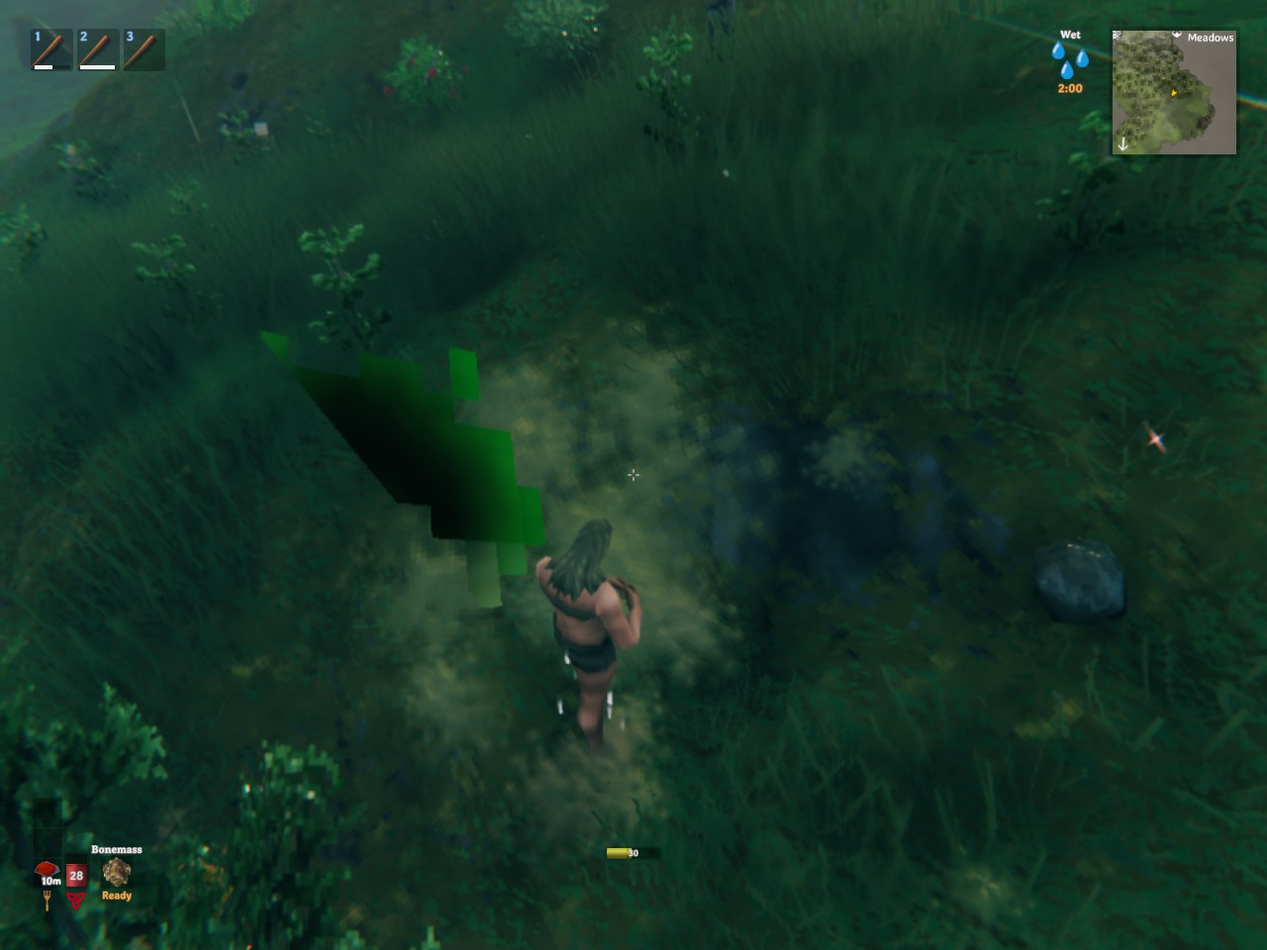Food Indicator: (36, 797, 63, 891)
Health Bar: (63, 820, 90, 891)
Hotbar: (24, 21, 195, 80)
Raspberries: (381, 52, 464, 113)
Stamina Bar: (601, 841, 669, 863)
Status Indicator: (1024, 22, 1111, 100)
Stone: (1035, 539, 1125, 624)
